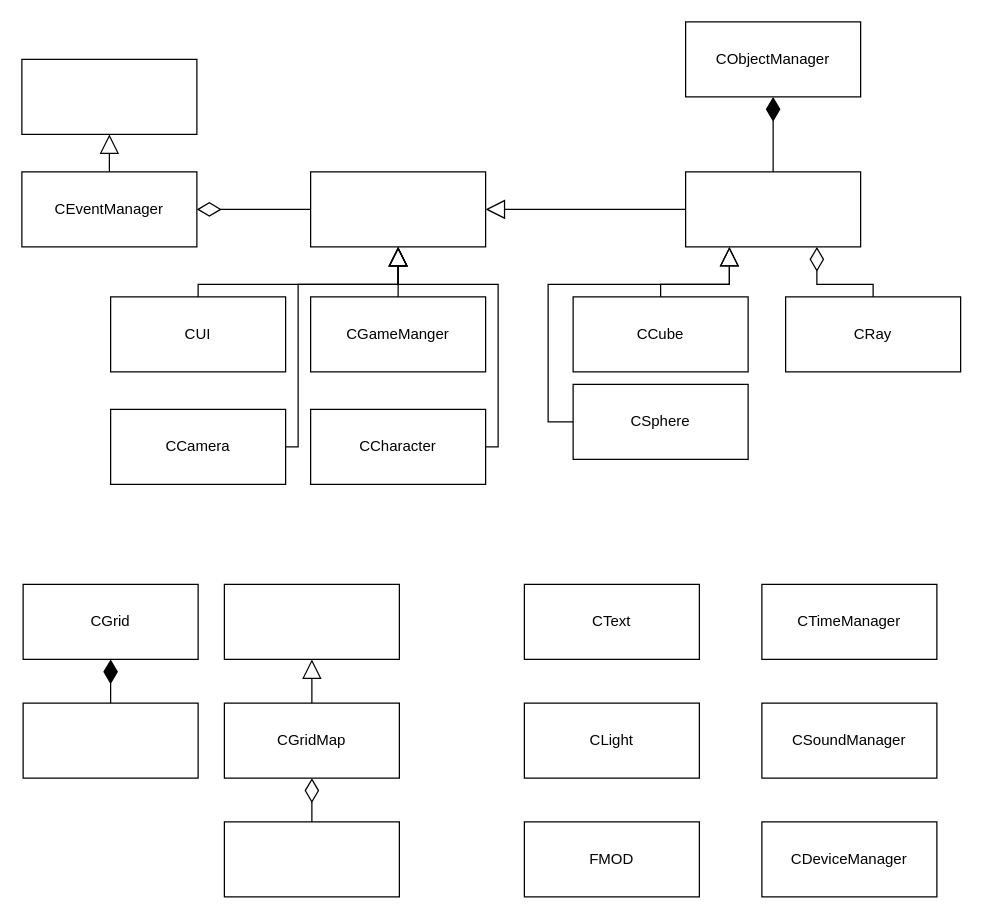
The diagram is 983 pixels wide and 919 high, and some of its shapes have lost their labels. The shapes that lost their labels are listed below. From the top down, each one's centre as x and y in pixels, then its label:
At [109,96]: "<< Template >> Singletone".
At [397,209]: "<< Abstract >> IListener".
At [772,209]: "<< Abstract >> CObject".
At [311,621]: "IMap".
At [110,740]: "CPyramid".
At [311,859]: "CFrustum".
